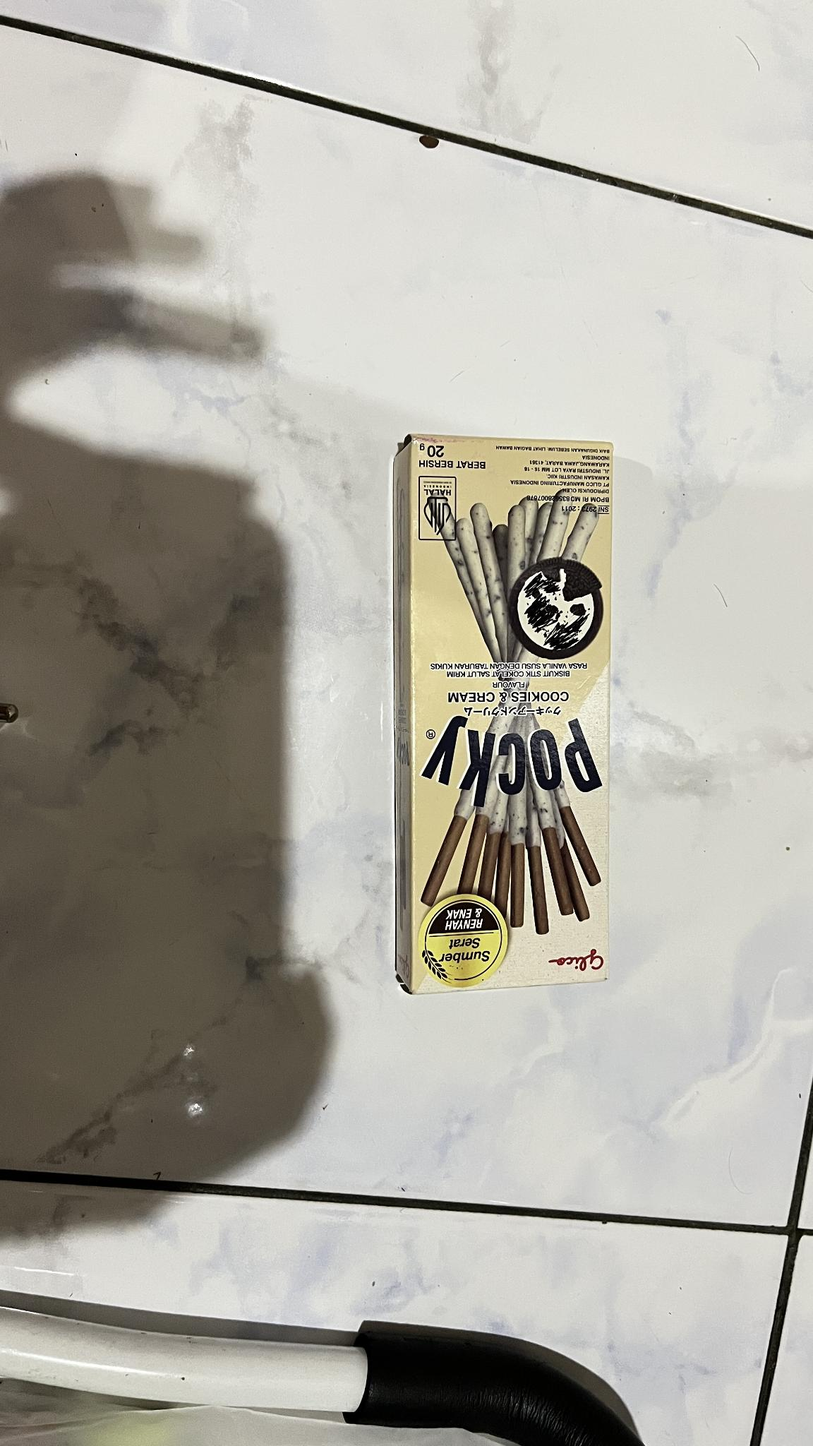Kertas: (409, 430, 617, 986)
